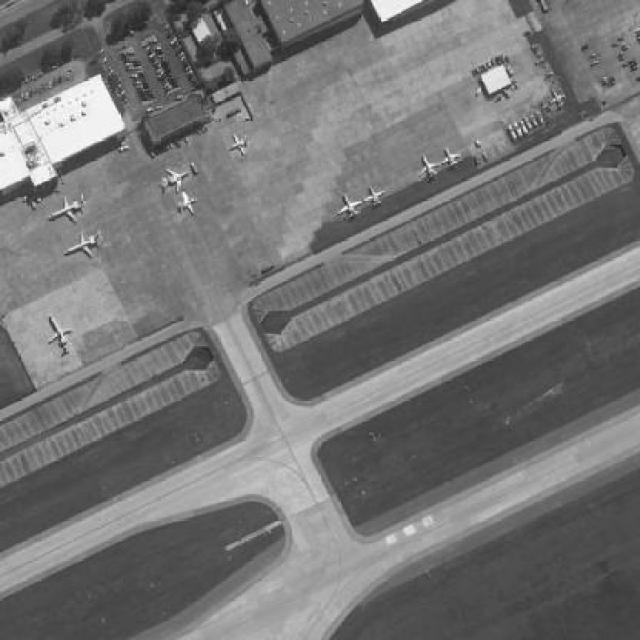airplane: (45, 192, 91, 225), (43, 314, 77, 356), (63, 229, 107, 260), (161, 165, 193, 196), (338, 193, 366, 220), (415, 156, 442, 181), (224, 135, 252, 159), (173, 192, 201, 216), (366, 185, 388, 209), (442, 147, 462, 169), (550, 89, 569, 110)
